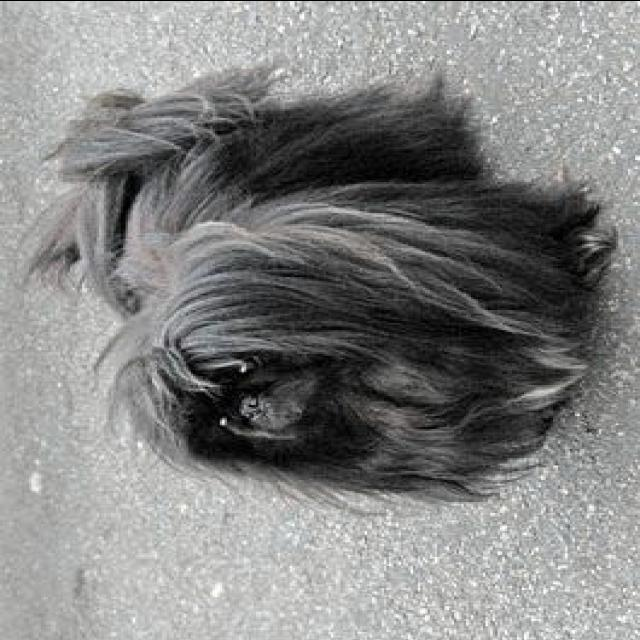pekinese: (19, 64, 611, 518)
